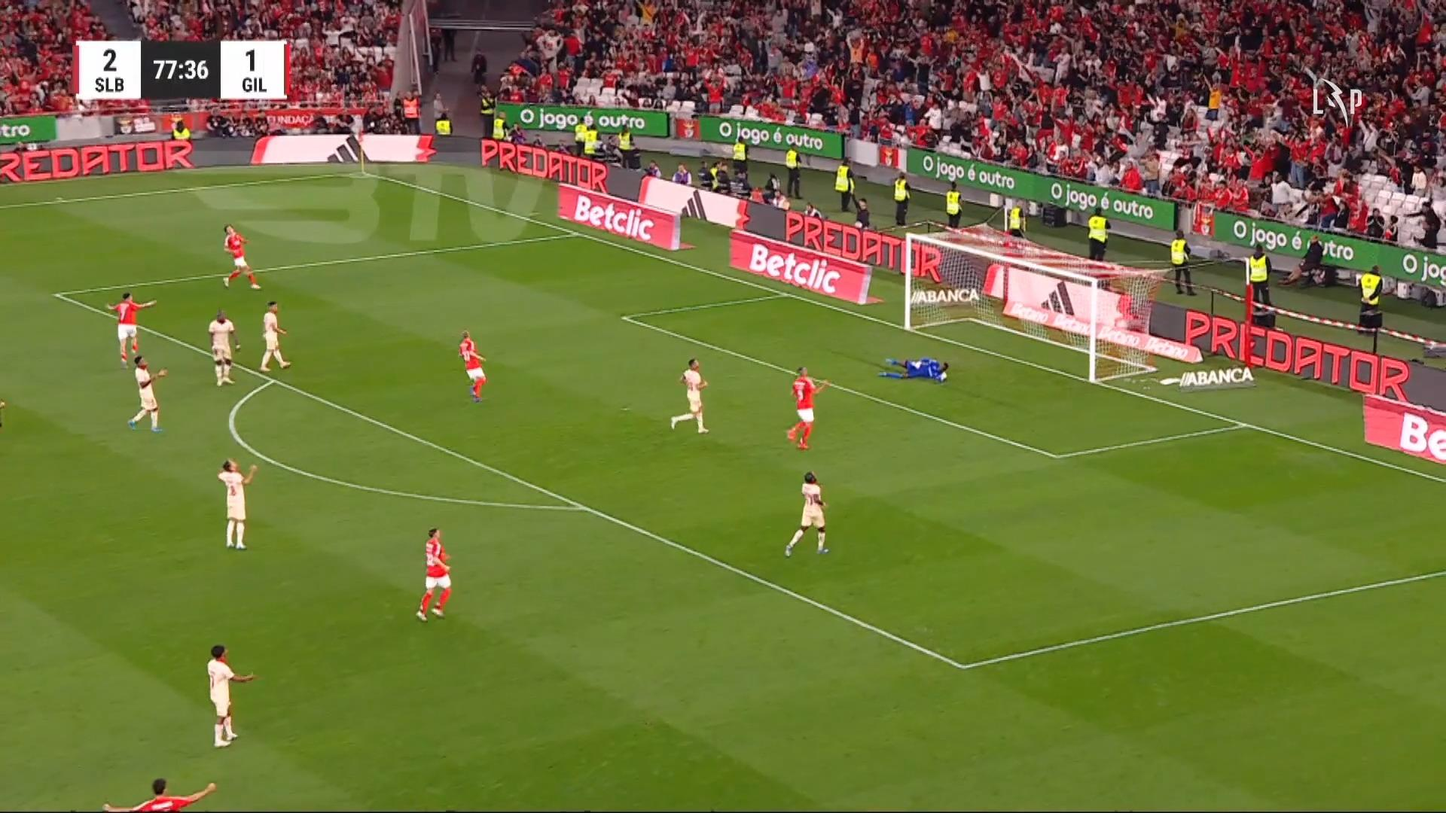goalkeeper: (877, 355, 949, 382)
player: (206, 644, 255, 748), (783, 470, 830, 558), (105, 291, 157, 369), (102, 777, 217, 811), (216, 458, 258, 550), (414, 526, 452, 623), (786, 365, 829, 449), (127, 354, 168, 433), (669, 358, 709, 434), (221, 223, 261, 290), (206, 309, 240, 386), (259, 300, 291, 372), (457, 329, 487, 403)
